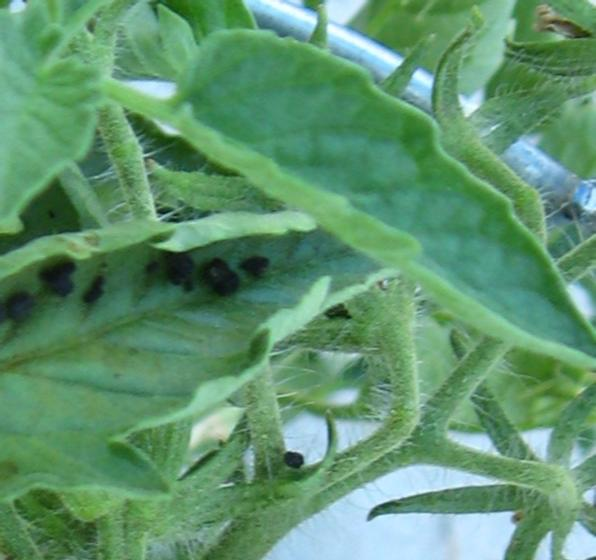Tomato leaf: (147, 40, 596, 373)
